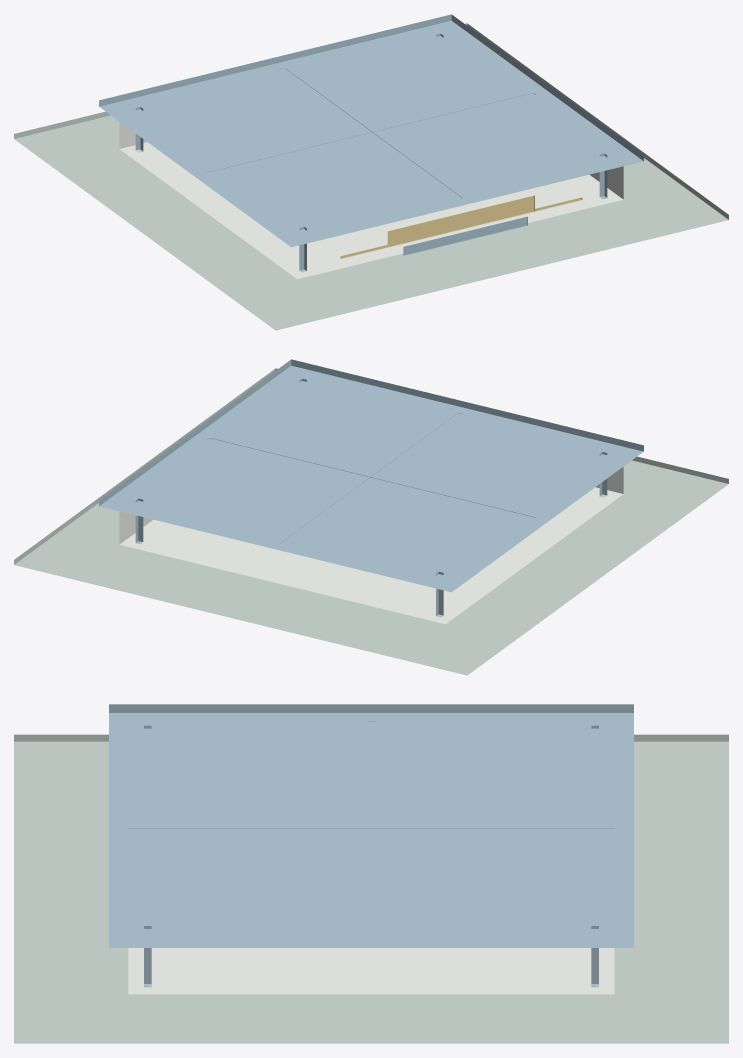
Rendered from supermarket.glb.
3 renders of one model, top to bottom at view 1: azimuth 30°, elevation 25°; view 2: azimuth 150°, elevation 25°; view 3: azimuth 270°, elevation 25°, orthographic. The views are drawn at different scales.
Parts seen in each view (by area): view 1: Roof, Foundation, Walls, Details, Frame; view 2: Roof, Foundation, Walls, Frame; view 3: Roof, Foundation, Walls, Frame.
Boxes of the visible parts, box(x1,y1,x2,y2) form: Roof: box(99, 14, 643, 247); Foundation: box(14, 23, 728, 330); Walls: box(119, 121, 623, 279); Details: box(340, 195, 582, 258); Frame: box(135, 33, 607, 272); Roof: box(99, 359, 643, 592); Foundation: box(14, 368, 728, 675); Walls: box(119, 466, 623, 624); Frame: box(135, 378, 607, 617); Roof: box(109, 704, 633, 947); Foundation: box(14, 734, 728, 1043); Walls: box(128, 948, 614, 994); Frame: box(128, 721, 614, 987).
Bounding box in the file's own units: 60 × 6.56 × 60.
